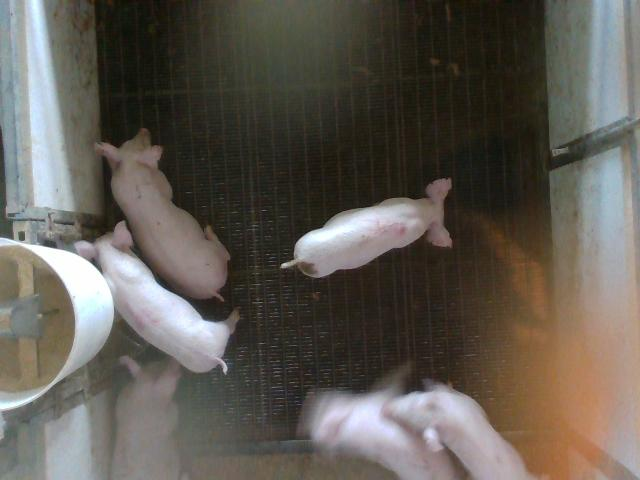pig-4: (75, 221, 239, 373)
pig-5: (281, 179, 452, 277)
